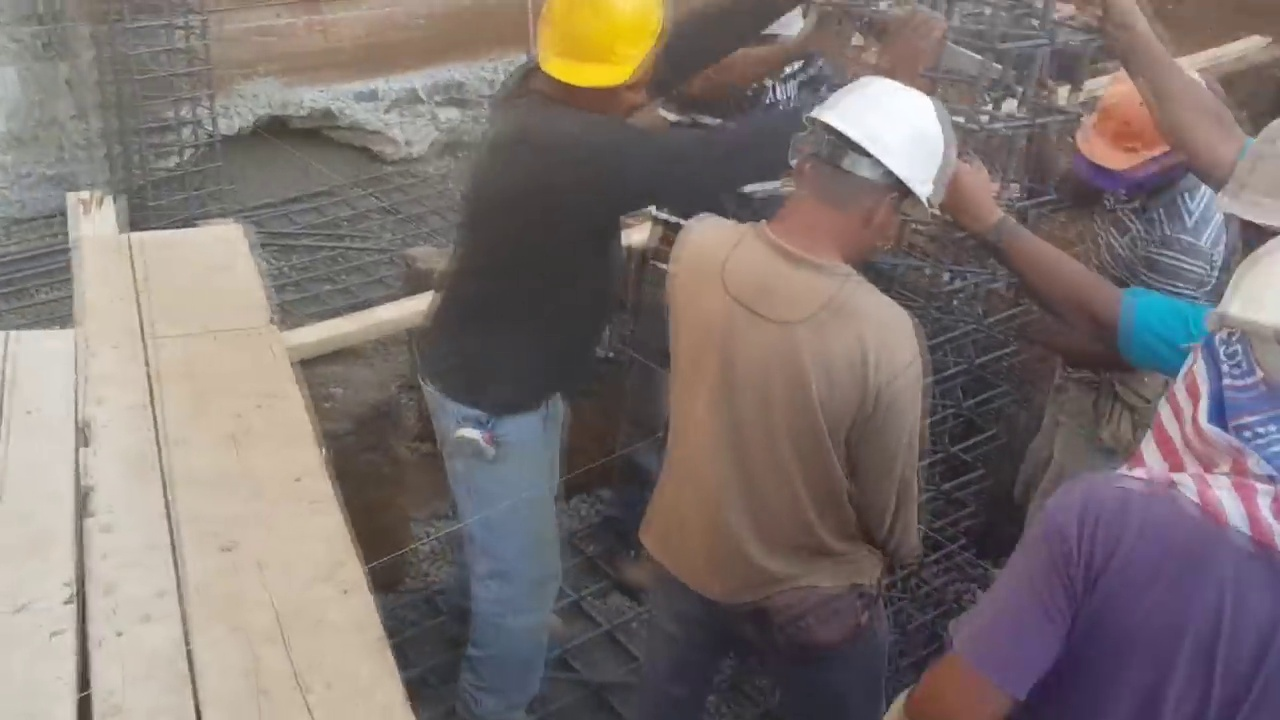helmet: (799, 71, 960, 234), (536, 2, 667, 87), (1071, 65, 1172, 172), (1200, 230, 1279, 357)
helmet-on: (1118, 231, 1280, 530), (753, 69, 957, 272), (522, 5, 667, 127), (1067, 64, 1190, 205)
person: (409, 4, 868, 711), (636, 71, 959, 698), (885, 233, 1280, 720), (1008, 64, 1223, 537)
